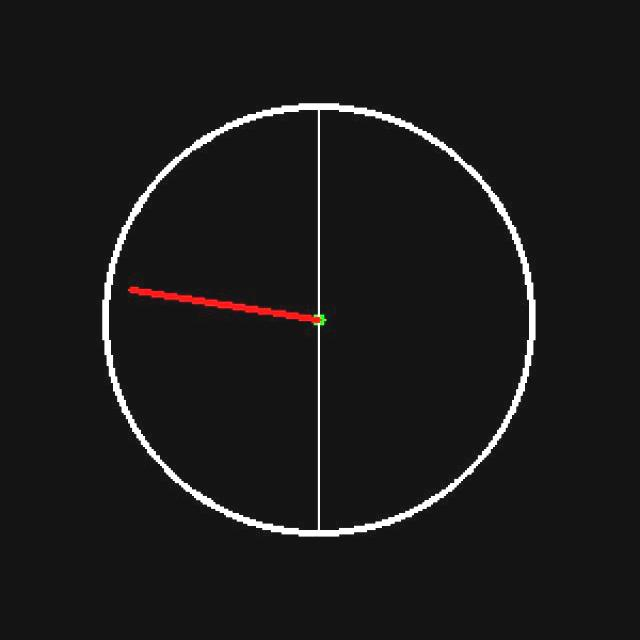Needle_Tip: (111, 274, 157, 315)
Needle_base: (281, 284, 343, 357)
